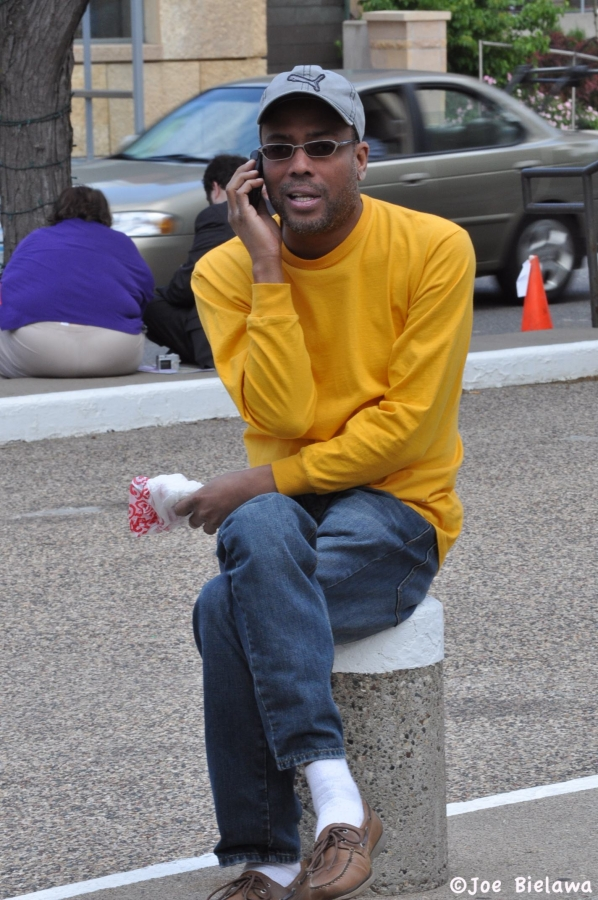phone: (221, 147, 289, 244)
talk: (229, 124, 354, 242)
